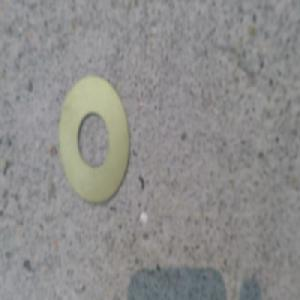Washer: (59, 76, 133, 209)
